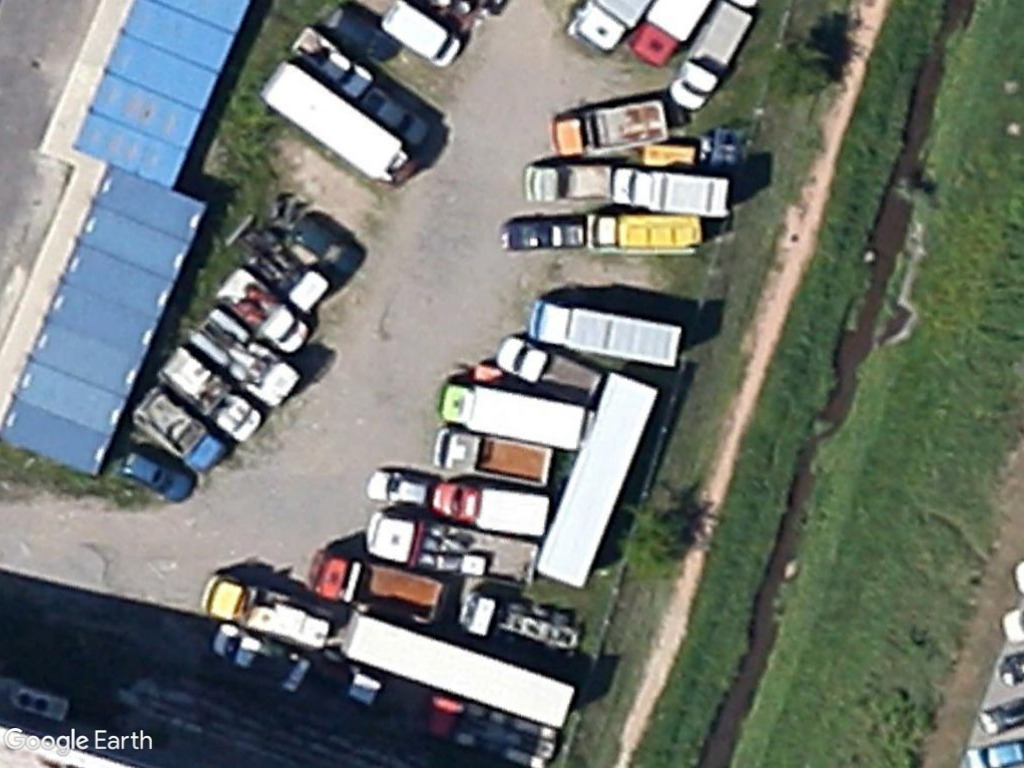others: (311, 544, 453, 632), (421, 421, 562, 491), (669, 11, 762, 115), (546, 94, 673, 163), (424, 480, 556, 544)
truck: (434, 378, 593, 456), (526, 298, 689, 373)
